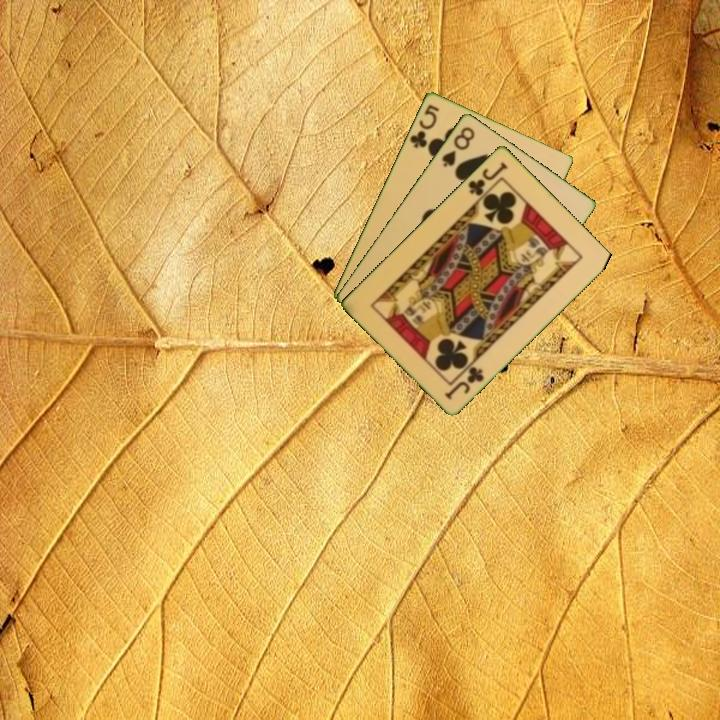5c: (406, 100, 442, 151)
8s: (438, 123, 478, 169)
Jc: (441, 362, 487, 402), (465, 158, 510, 198)
